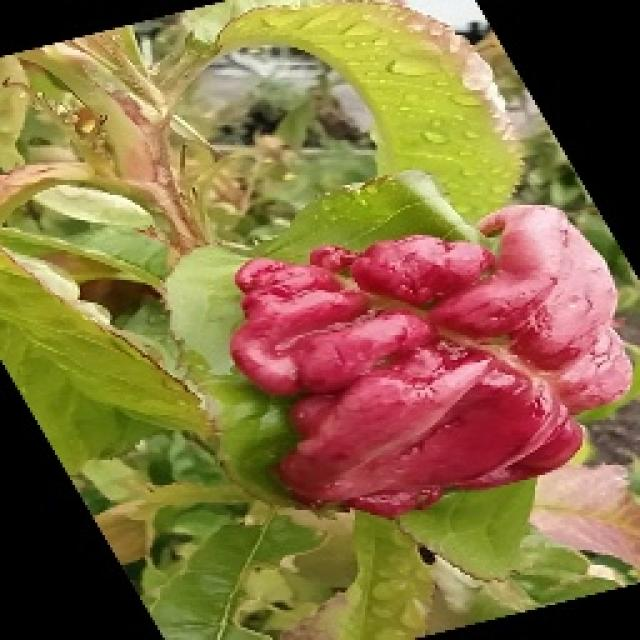peach_leaf_curl: (225, 200, 635, 518)
